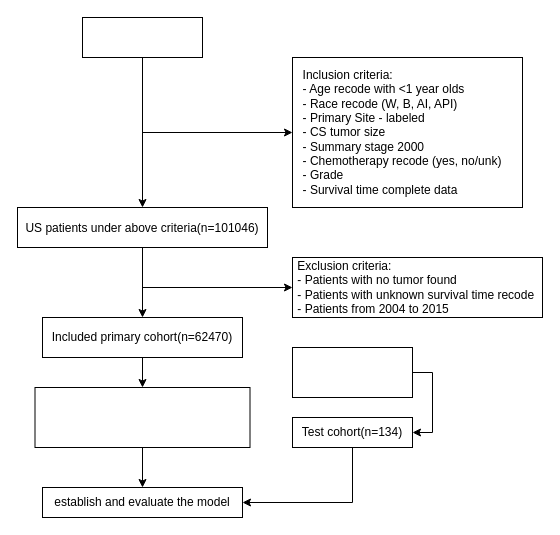
The diagram is 560 pixels wide and 535 high, and some of its shapes have lost their labels. The shapes that lost their labels are listed below. From the top down, each one's centre as x and y in pixels, then its label:
At point (142, 37): "SEER database".
At point (352, 372): "hospital database".
At point (142, 417): "Training cohort(n=49976,80%) Self Validation cohort(n=12494,20%)".
